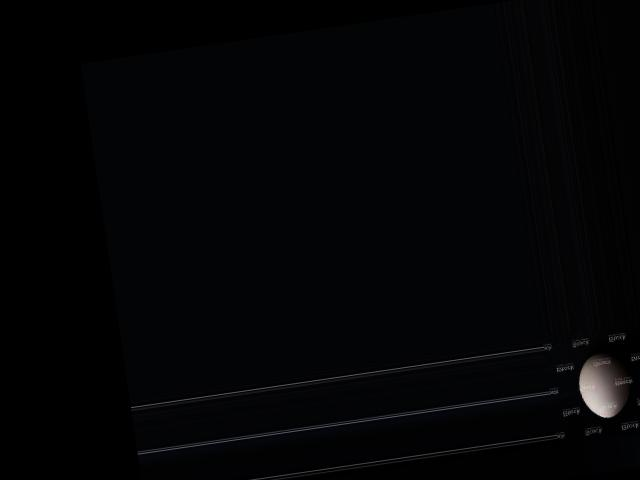egg: (575, 348, 634, 421)
